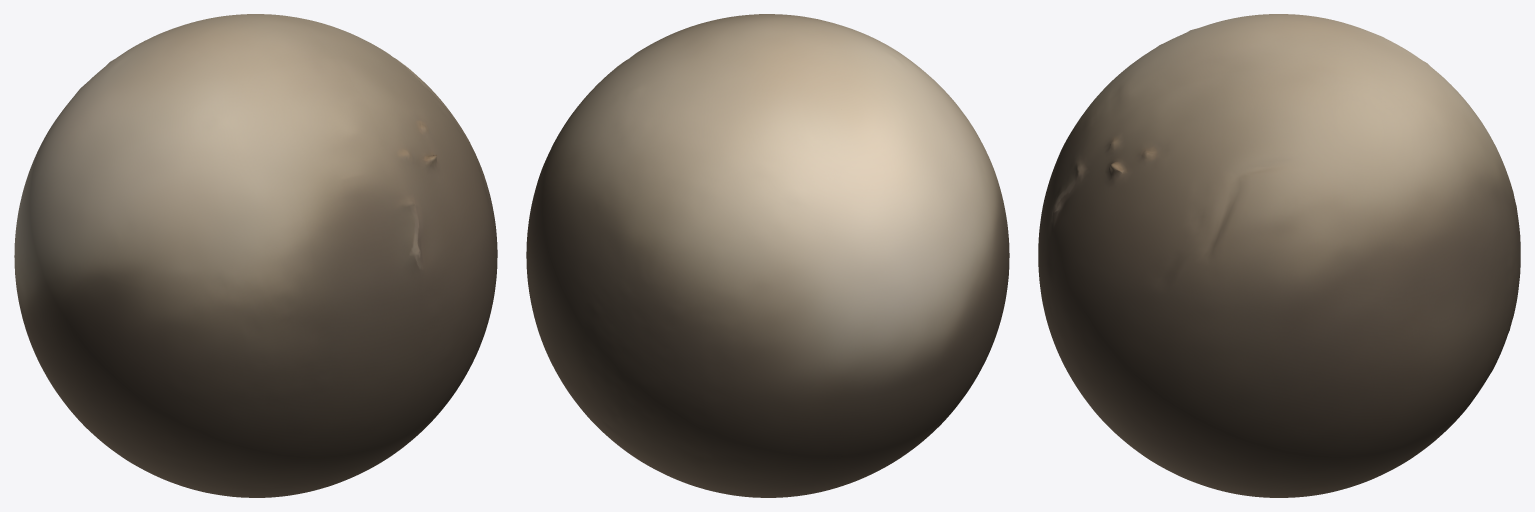
3 renders of one model, left to right at view 1: azimuth 30°, elevation 25°; view 2: azimuth 150°, elevation 25°; view 3: azimuth 270°, elevation 25°, orthographic.
Visible parts, largest first — view 1: model; view 2: model; view 3: model.
Part boxes in pixels (x1,y1,x2,y2): model: [14, 14, 497, 497]; model: [526, 14, 1009, 497]; model: [1038, 14, 1520, 497].
Bounding box in the file's own units: 1.9 × 1.9 × 1.89.
Materials: 1 (1 with a texture image).
